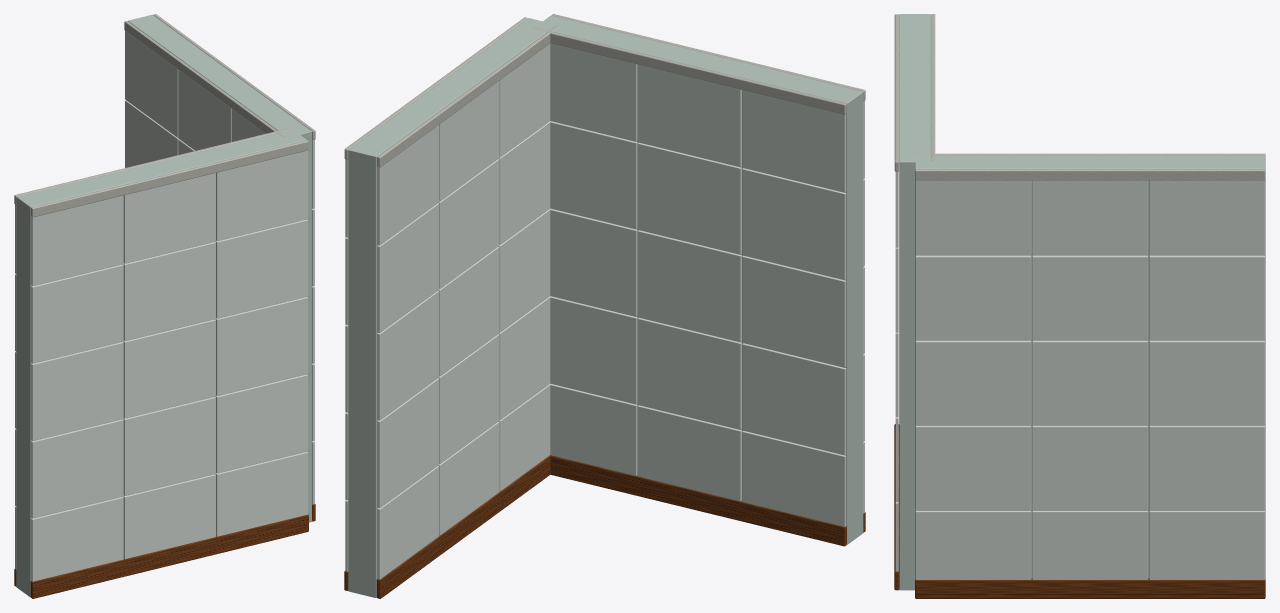
Rendered from liminal-spaces-kit-tiled-corner-427c3827__25202.glb.
3 renders of one model, left to right at view 1: azimuth 30°, elevation 25°; view 2: azimuth 150°, elevation 25°; view 3: azimuth 270°, elevation 25°, orthographic. The views are drawn at different scales.
Visible parts, largest first — view 1: tiled-corner; view 2: tiled-corner; view 3: tiled-corner.
Boxes of the visible parts, bbox=[...] form: tiled-corner: bbox=[14, 14, 315, 598]; tiled-corner: bbox=[344, 14, 865, 598]; tiled-corner: bbox=[894, 14, 1265, 598].
Size of the model in its own units: 2.12 by 2.7 by 2.12.
Materials: 4 (2 with a texture image).
